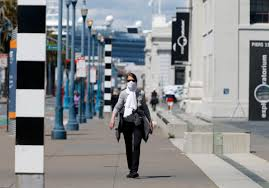mask: (123, 69, 140, 94)
